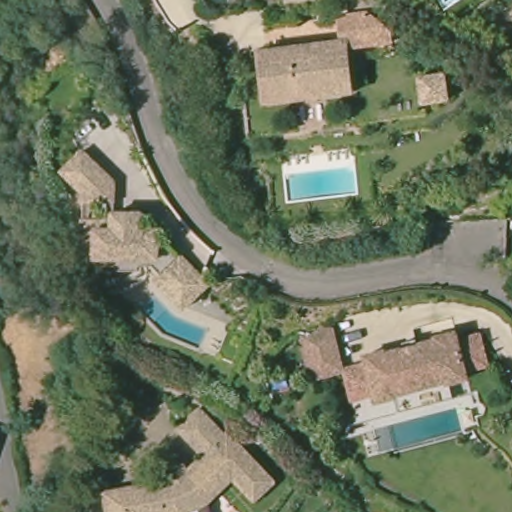pool: (133, 291, 211, 350), (287, 165, 361, 203), (389, 409, 462, 445)
